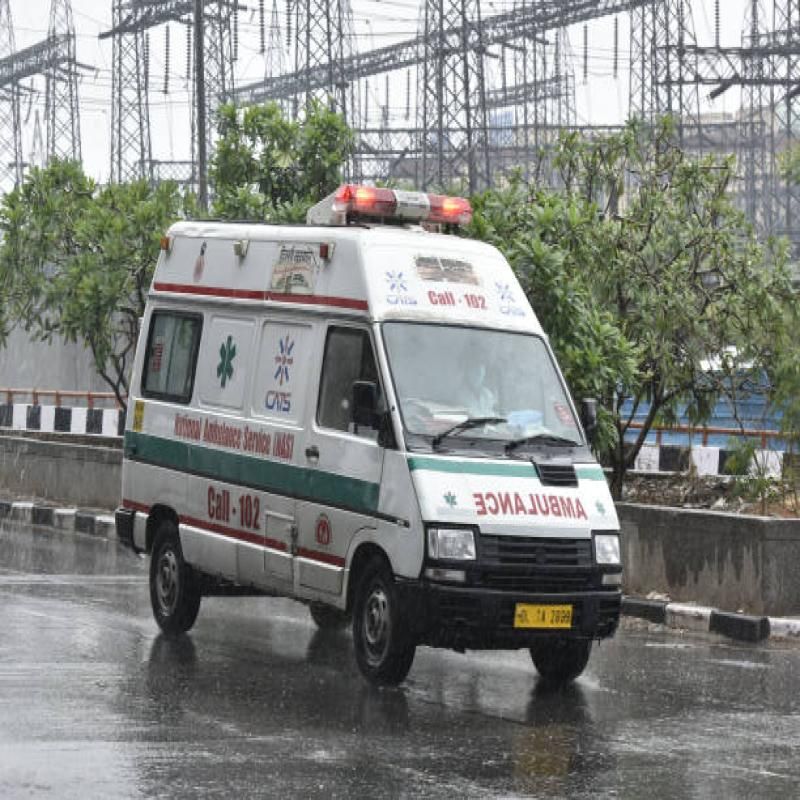ambulance: (93, 172, 635, 706)
